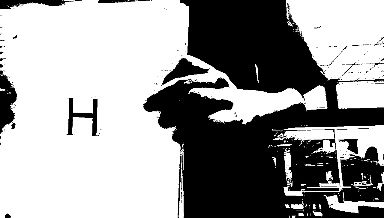H: (61, 94, 102, 137)
